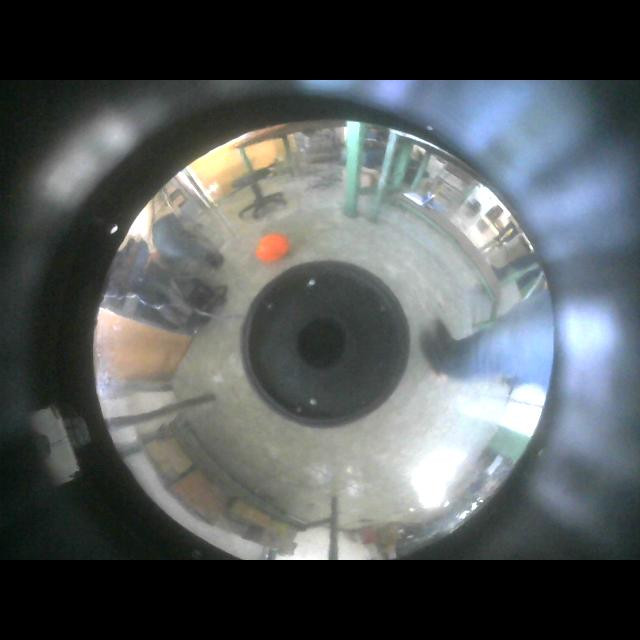bola: (255, 233, 289, 262)
